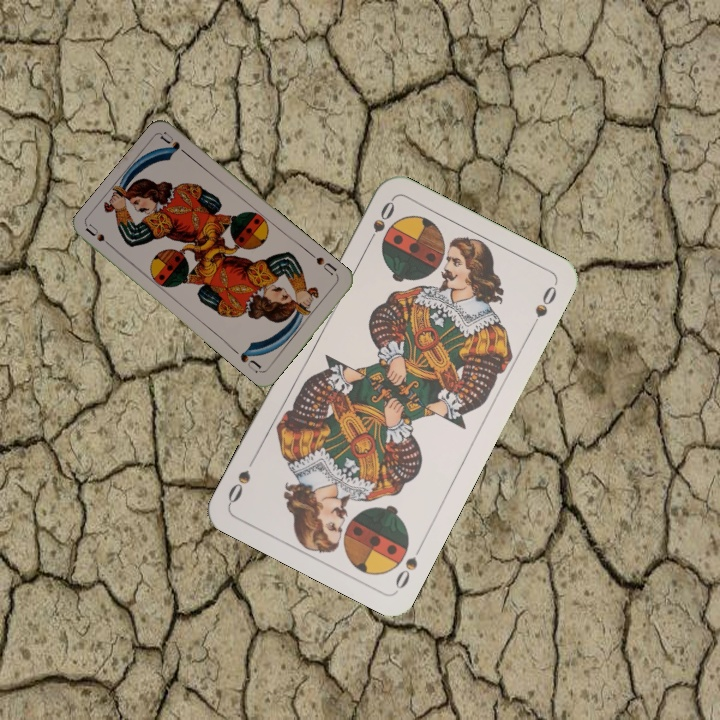SO: (361, 197, 398, 251), (391, 539, 426, 592)
SU: (82, 221, 118, 253), (312, 253, 341, 280)
